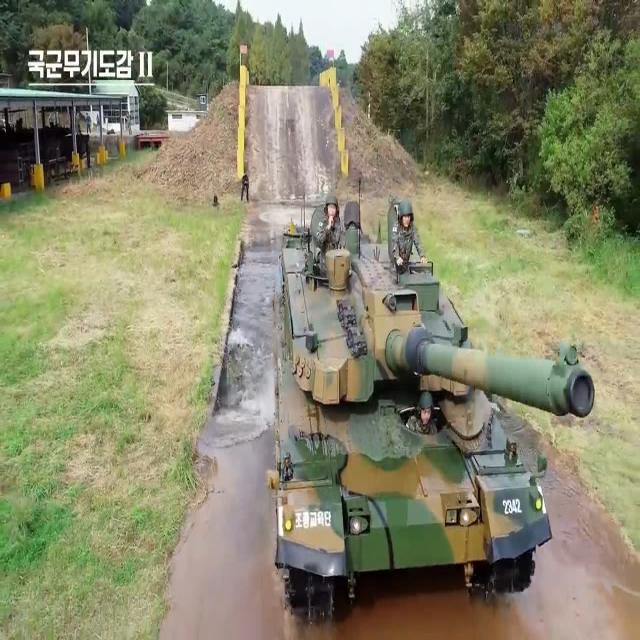korea tank: (264, 174, 596, 626)
